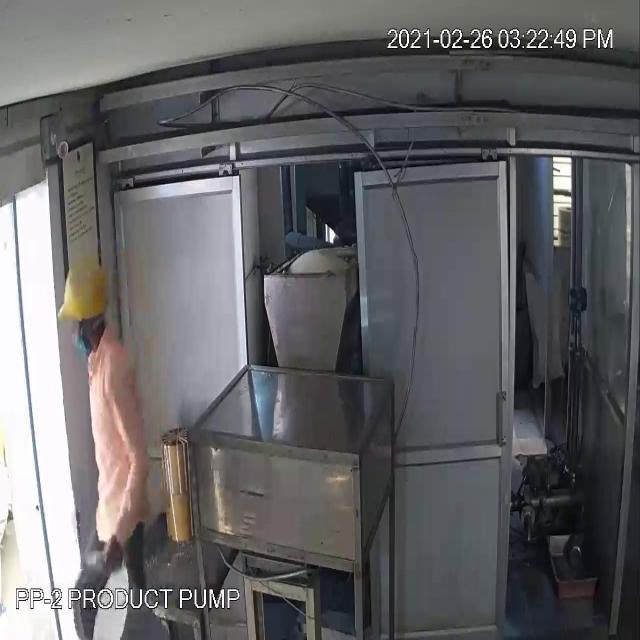helmet: (56, 248, 114, 333)
